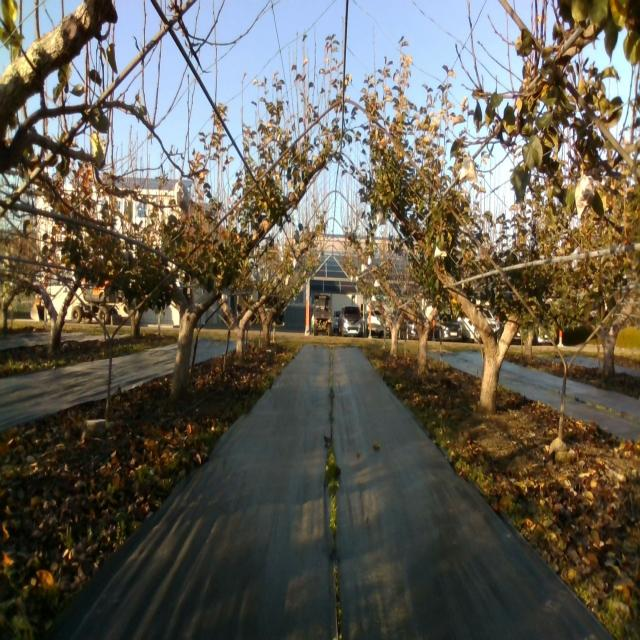pearbags: (574, 169, 595, 220), (174, 176, 190, 213), (460, 154, 478, 183)
